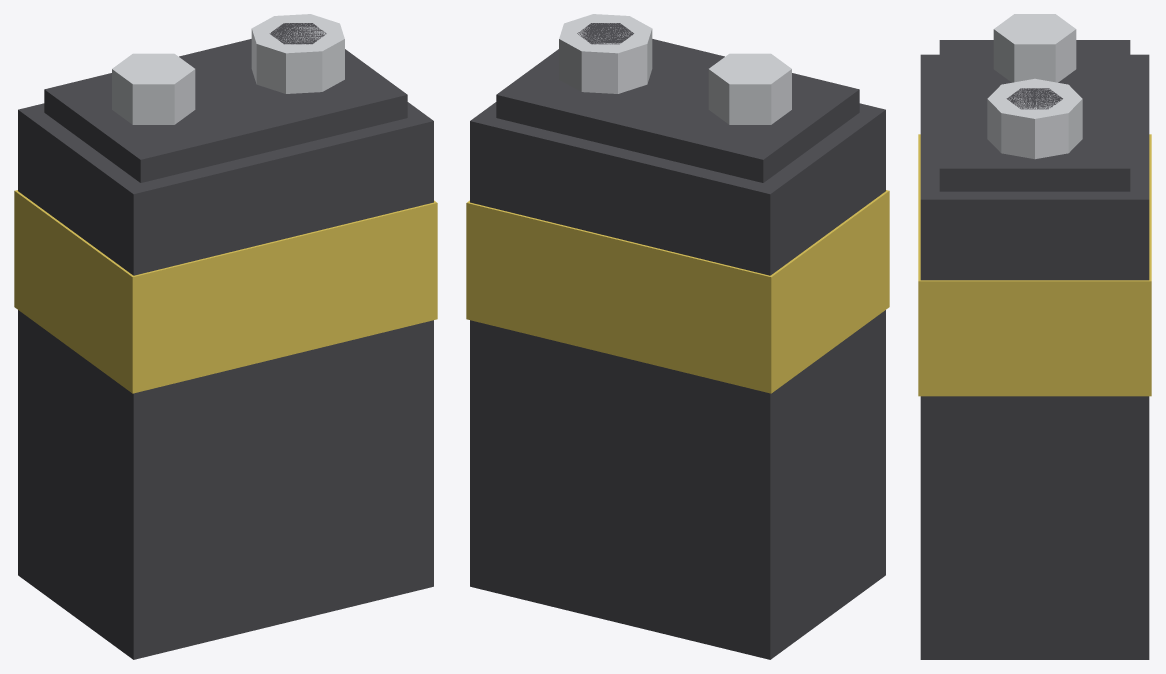
Rendered from battery.glb.
3 views of the same model, side by side, from view 1: azimuth 30°, elevation 25°; view 2: azimuth 150°, elevation 25°; view 3: azimuth 270°, elevation 25° (orthographic).
Visible parts, largest first — view 1: Battery; view 2: Battery; view 3: Battery.
Boxes of the visible parts, bbox=[...] form: Battery: bbox=[14, 14, 437, 659]; Battery: bbox=[466, 14, 889, 659]; Battery: bbox=[918, 14, 1151, 659].
Size of the model in its own units: 0.0548 by 0.091 by 0.0368.
